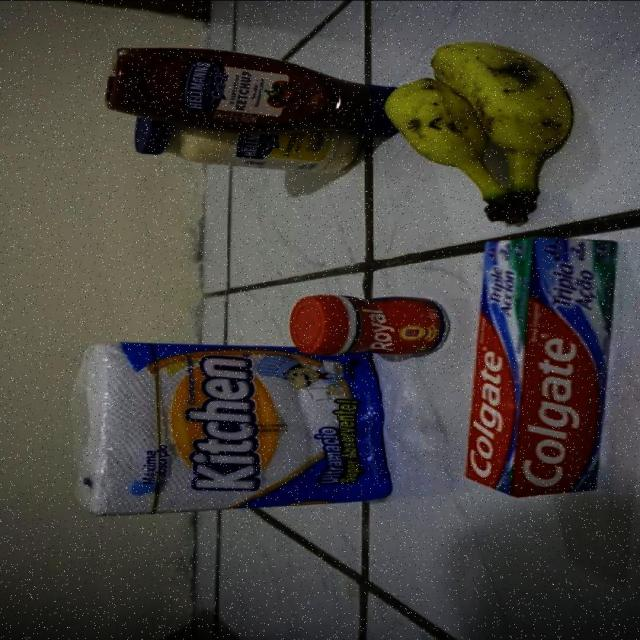Banana: (382, 42, 574, 223)
Ketchup: (104, 46, 406, 138)
Mayonnaise: (131, 116, 371, 173)
Napkin: (73, 340, 392, 517)
Toothpaste: (466, 236, 620, 499)
Yeast: (288, 292, 447, 356)
